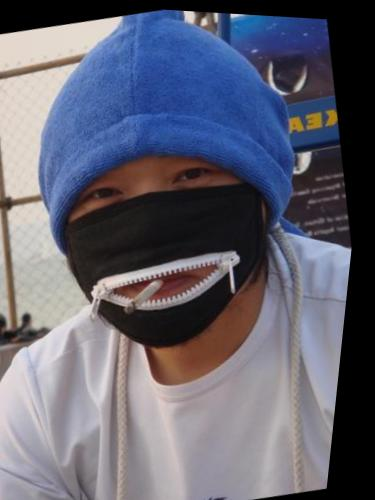WRONG: (40, 106, 289, 364)
